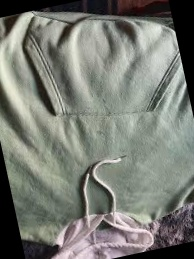oil: (89, 89, 121, 127), (92, 128, 108, 144)
